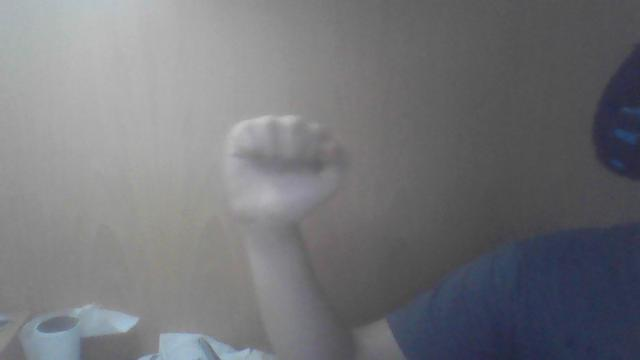forward: (220, 113, 356, 359)
